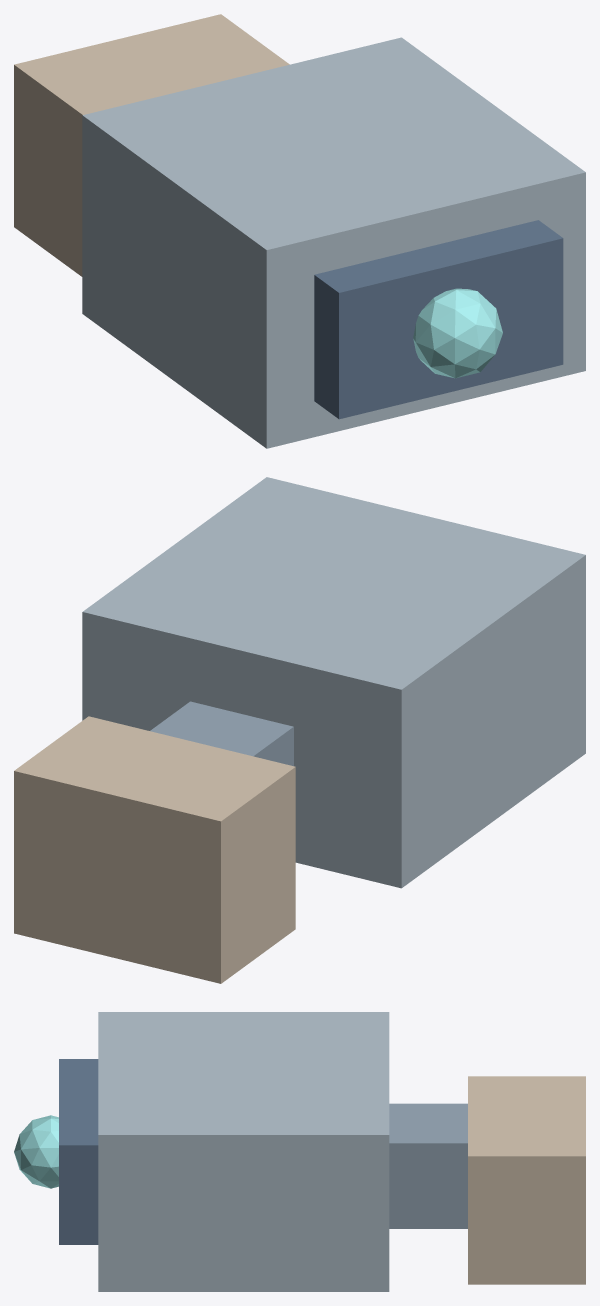
The model's file is Security_Camera.glb.
3 views of the same model, one above another, from view 1: azimuth 30°, elevation 25°; view 2: azimuth 150°, elevation 25°; view 3: azimuth 270°, elevation 25° (orthographic). The views are drawn at different scales.
Visible parts, largest first — view 1: cam_2, lens_3, mount_0, glass_4; view 2: cam_2, mount_0, arm_1; view 3: cam_2, mount_0, arm_1, lens_3, glass_4.
Part boxes in pixels (bbox=[...]): cam_2: bbox=[82, 37, 585, 448]; lens_3: bbox=[314, 220, 563, 419]; mount_0: bbox=[14, 14, 289, 276]; glass_4: bbox=[413, 288, 502, 378]; cam_2: bbox=[82, 477, 585, 888]; mount_0: bbox=[14, 716, 295, 983]; arm_1: bbox=[150, 701, 293, 766]; cam_2: bbox=[98, 1012, 389, 1291]; mount_0: bbox=[468, 1076, 585, 1284]; arm_1: bbox=[389, 1103, 467, 1228]; lens_3: bbox=[59, 1059, 98, 1244]; glass_4: bbox=[14, 1115, 58, 1188].
Bounding box in the file's own units: 0.37 × 0.24 × 0.727.
